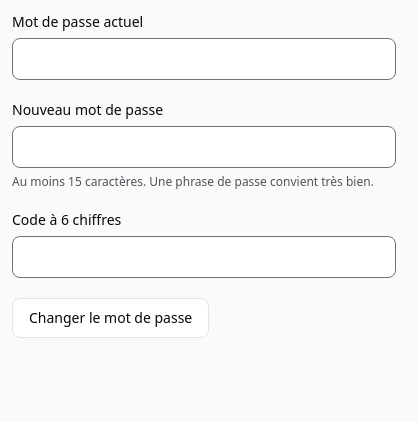
admin forms › PasswordForm › reports {"status":"invalid","problem":"too_short"}
Type "current password" into the password field labelled "Mot de passe actuel" at [204, 59], box [12,38,396,80]
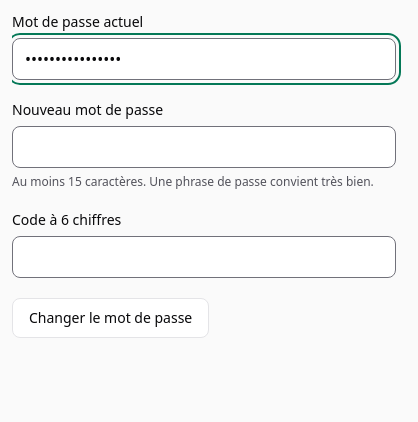
Type "a new long passphrase" into the password field labelled "Nouveau mot de passe" at [204, 147], box [12,126,396,168]
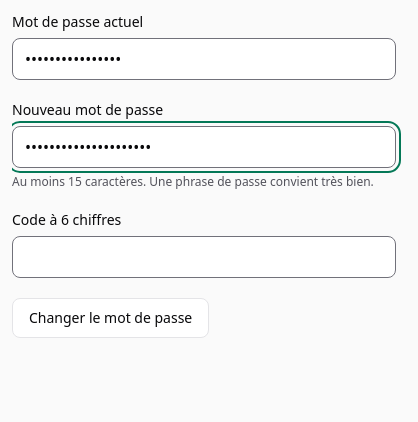
Type "123456" into the field labelled "Code à 6 chiffres" at [204, 257], box [12,236,396,278]
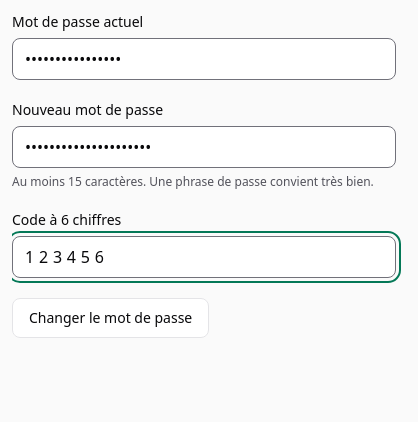
Click the button "Changer le mot de passe" at [111, 318], box [12,298,209,338]
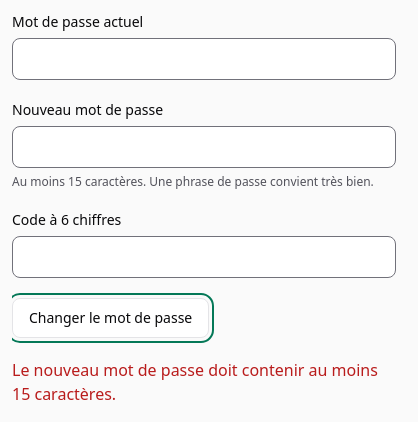
Expected: the message shows "au moins 15 caractères", [12,359,378,405]
